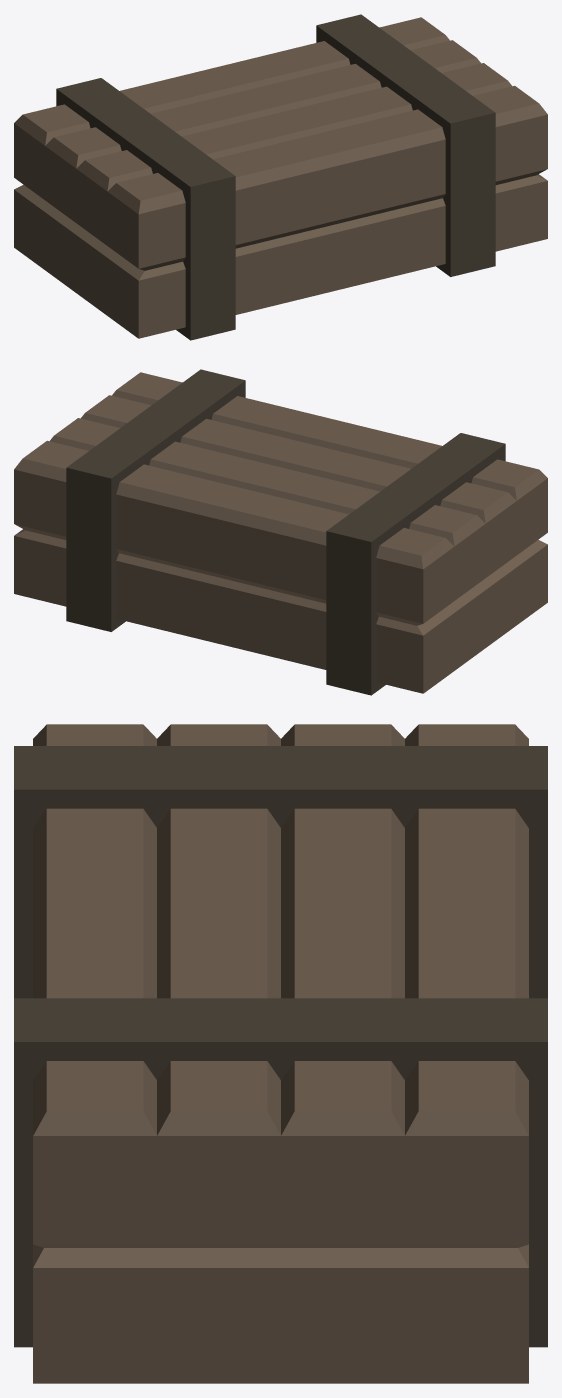
File: SM_Prop_Crate_05.glb
The picture shows the model from 3 angles, top to bottom: view 1: azimuth 30°, elevation 25°; view 2: azimuth 150°, elevation 25°; view 3: azimuth 270°, elevation 25°; orthographic projection. The views are drawn at different scales.
Parts seen in each view (by area): view 1: SM_Prop_Crate_05; view 2: SM_Prop_Crate_05; view 3: SM_Prop_Crate_05.
Boxes of the visible parts, left/top/right/bottom form: SM_Prop_Crate_05: left=14, top=14, right=547, bottom=340; SM_Prop_Crate_05: left=14, top=369, right=547, bottom=695; SM_Prop_Crate_05: left=14, top=724, right=547, bottom=1383.
Size of the model in its own units: 0.0101 by 0.00363 by 0.00576.
